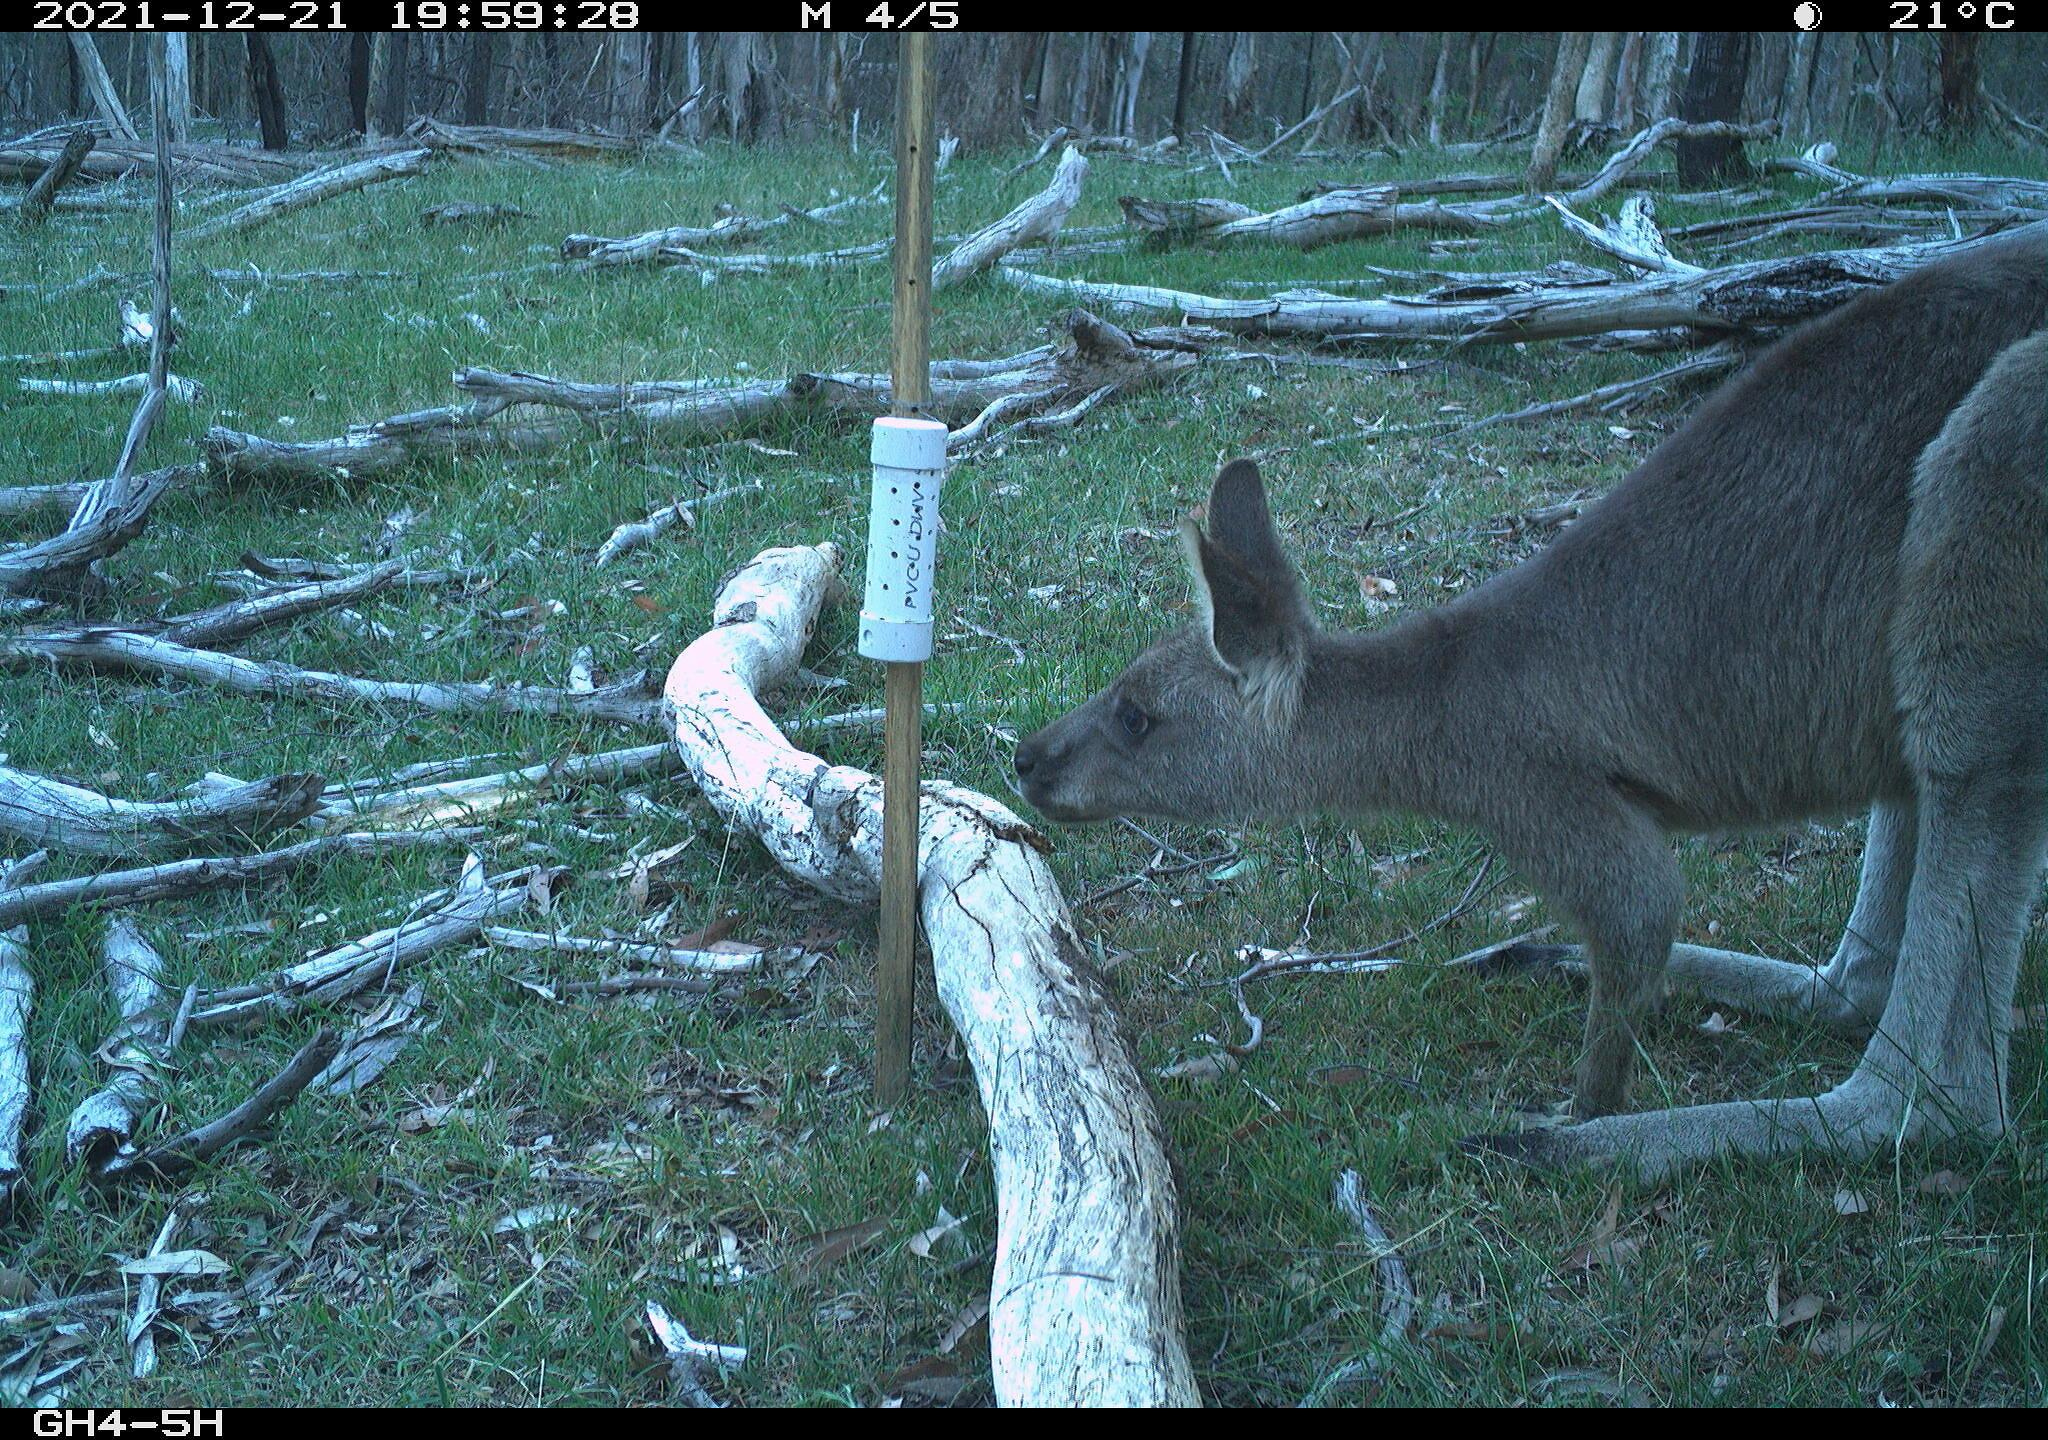Eastern grey kangaroo: (1010, 240, 2048, 1194)
